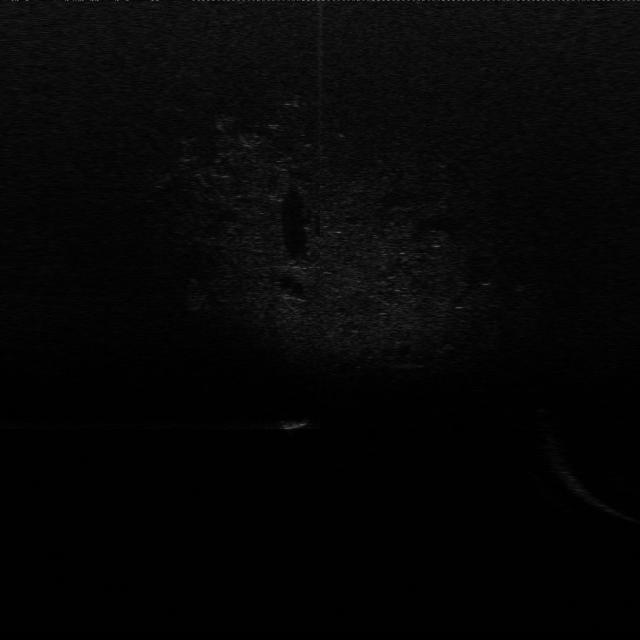square cage: (272, 412, 302, 434)
